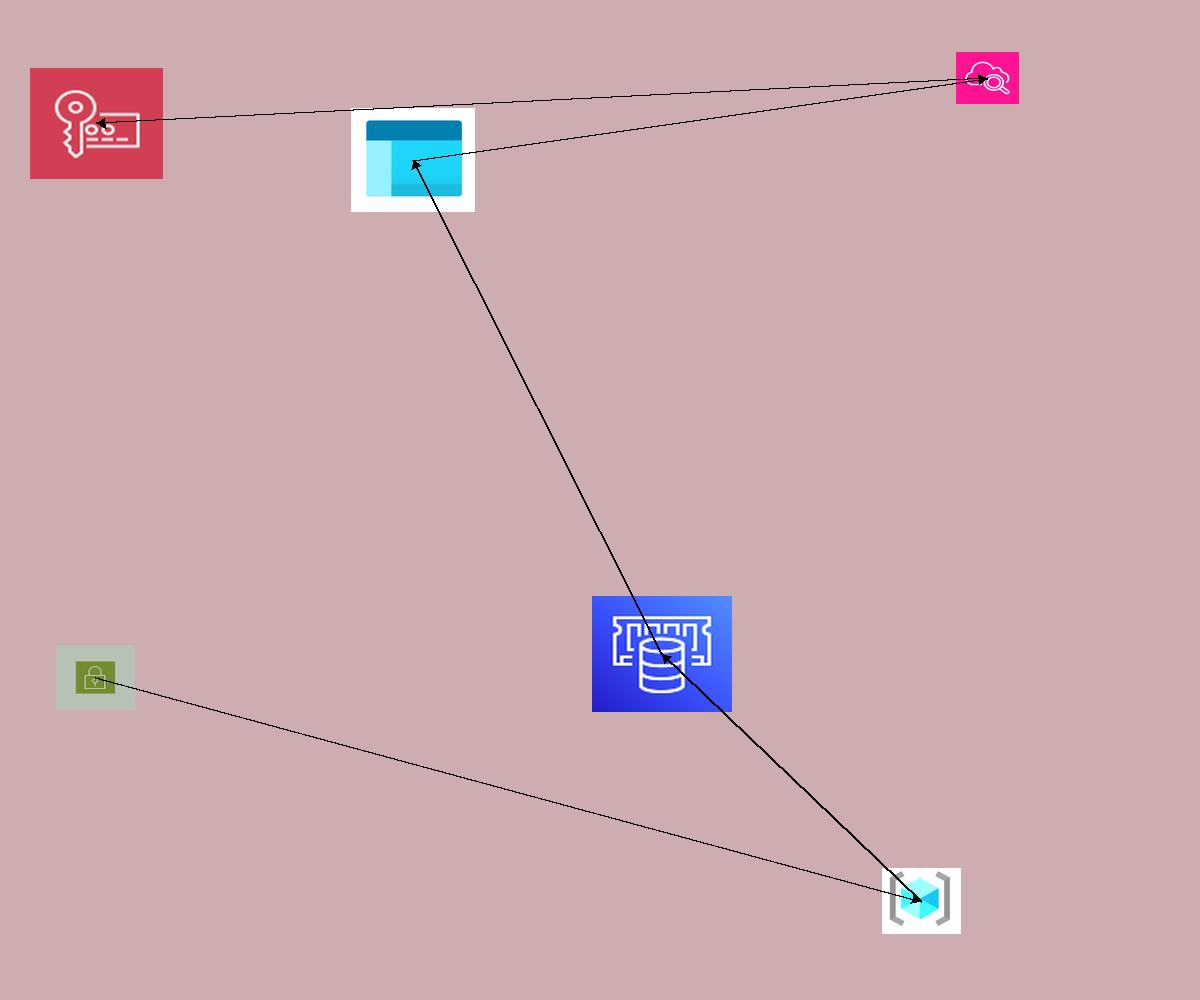AWS-CloudWatch: (956, 52, 1019, 104)
AWS-ElastiCache: (592, 596, 732, 712)
AWS-Key-Management-Service: (30, 68, 163, 179)
AWS-Public-subnet: (56, 645, 135, 710)
Azure_management-portal: (351, 108, 475, 212)
Azure_resource_group: (882, 868, 961, 934)
